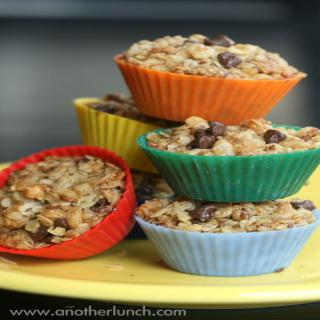Muffin: (0, 31, 320, 277), (114, 40, 295, 123)
